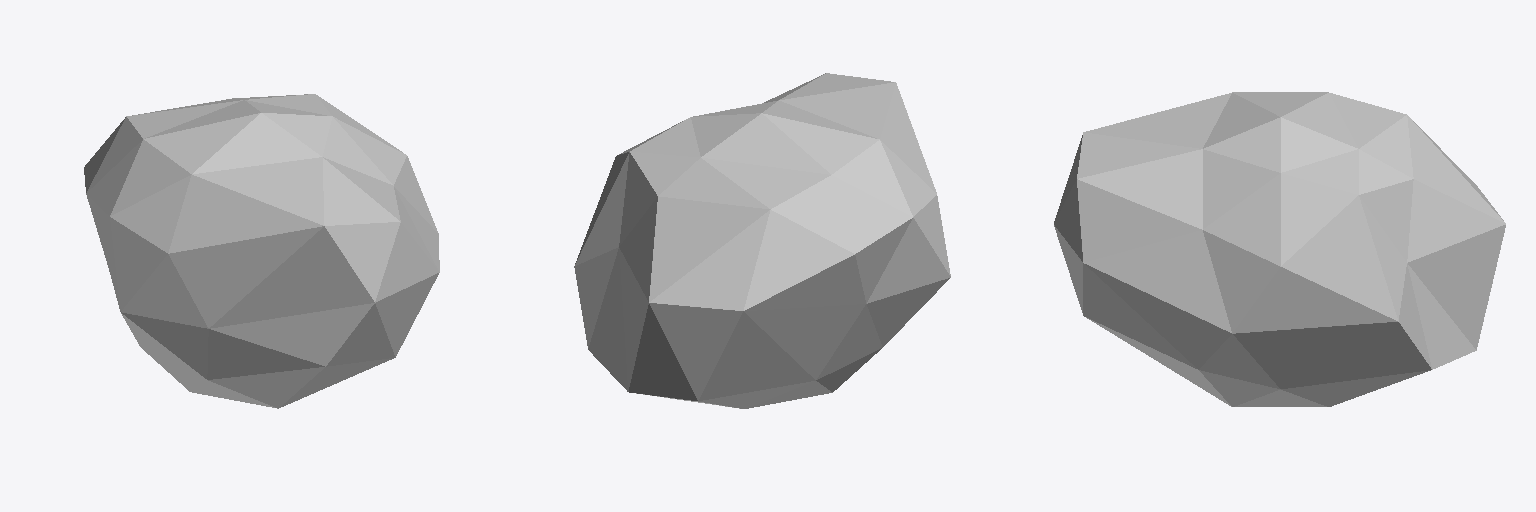
File: cloud.obj
The picture shows the model from 3 angles: view 1: azimuth 30°, elevation 25°; view 2: azimuth 150°, elevation 25°; view 3: azimuth 270°, elevation 25°; orthographic projection.
Parts seen in each view (by area): view 1: Icosphere_Icosphere.001; view 2: Icosphere_Icosphere.001; view 3: Icosphere_Icosphere.001.
Boxes of the visible parts, x1,y1,x2,y2 form: Icosphere_Icosphere.001: [84, 94, 439, 408]; Icosphere_Icosphere.001: [574, 73, 950, 408]; Icosphere_Icosphere.001: [1054, 92, 1505, 406].
Bounding box in the file's own units: 2.35 × 2 × 2.9.